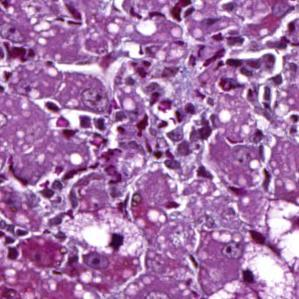ballooning: (59, 211, 146, 258), (239, 235, 298, 297), (253, 196, 299, 274)
